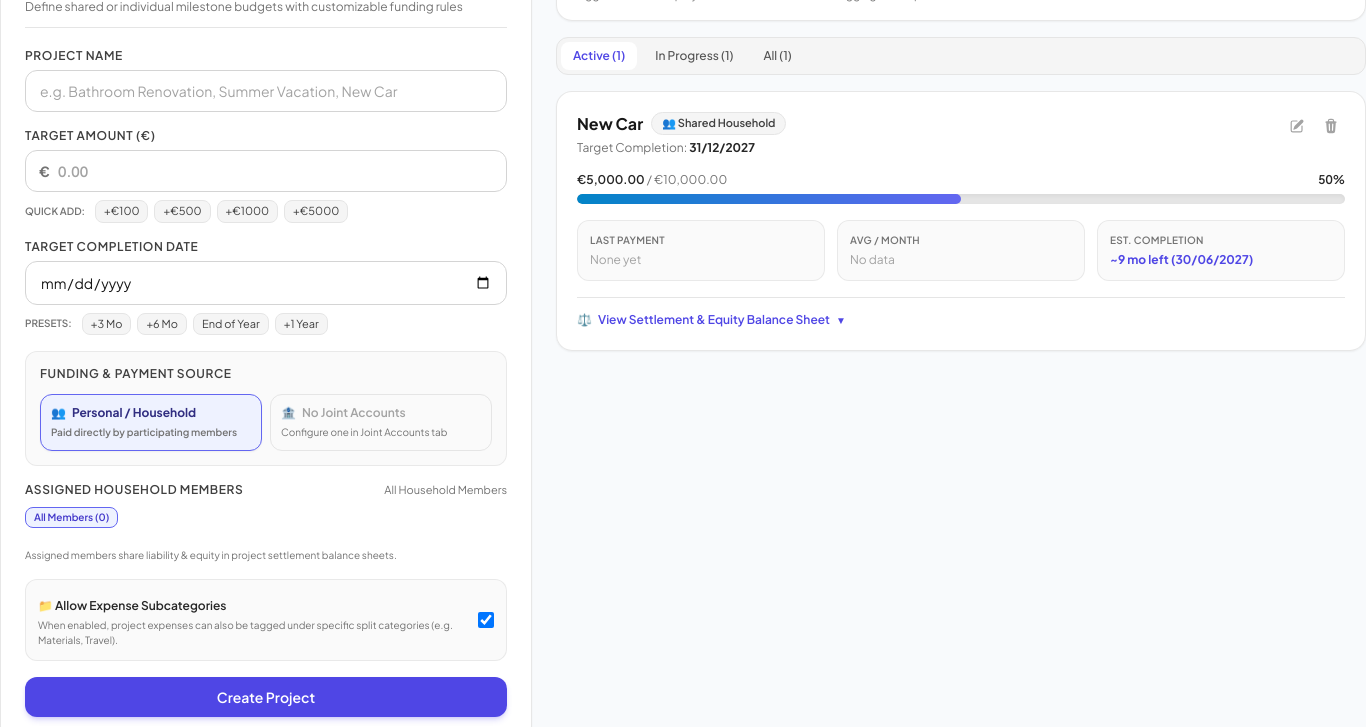
Test: ProjectsTab.svelte — Target Budget Goals & Completion Tracker › validates project creation inputs (Project name required.)
(page scrolled)
Click the button with id "submit-project" at coordinates (266, 696), box x1=25 y1=676 x2=507 y2=716
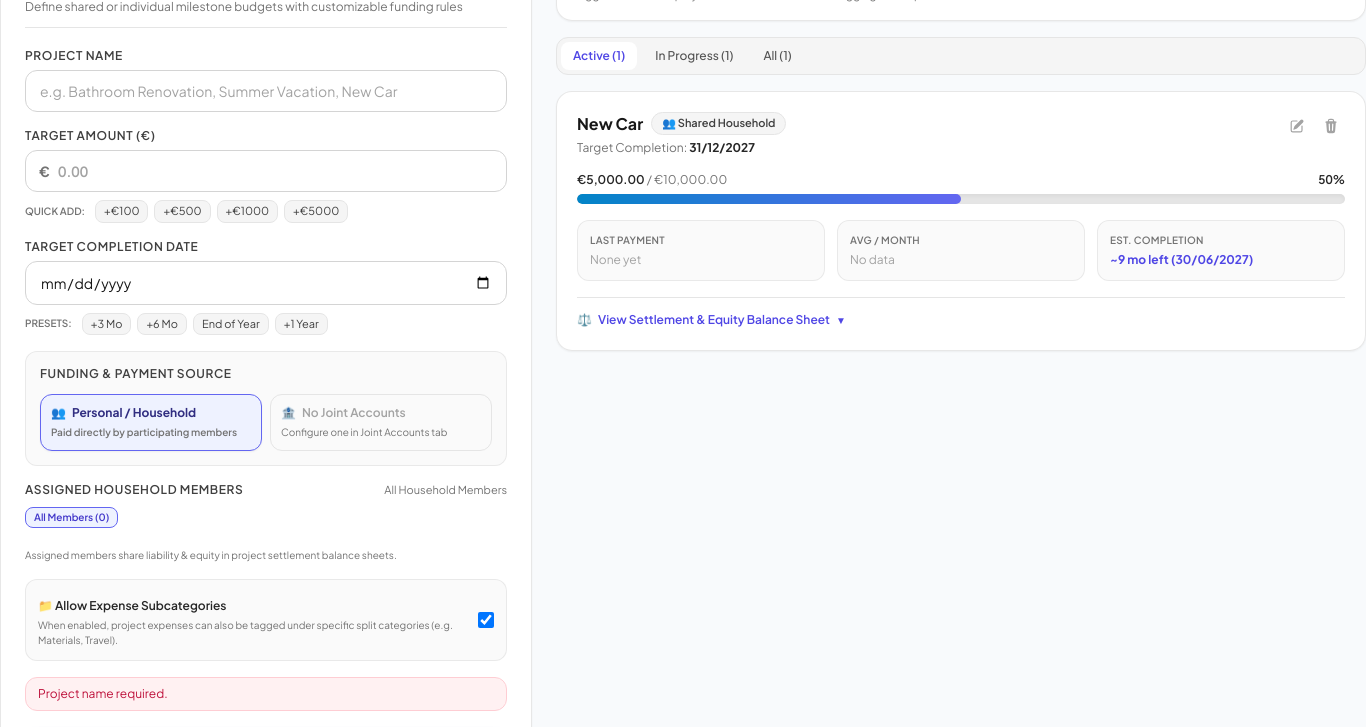
expect the text "Project name required." is shown: met, box x1=25 y1=676 x2=507 y2=710
